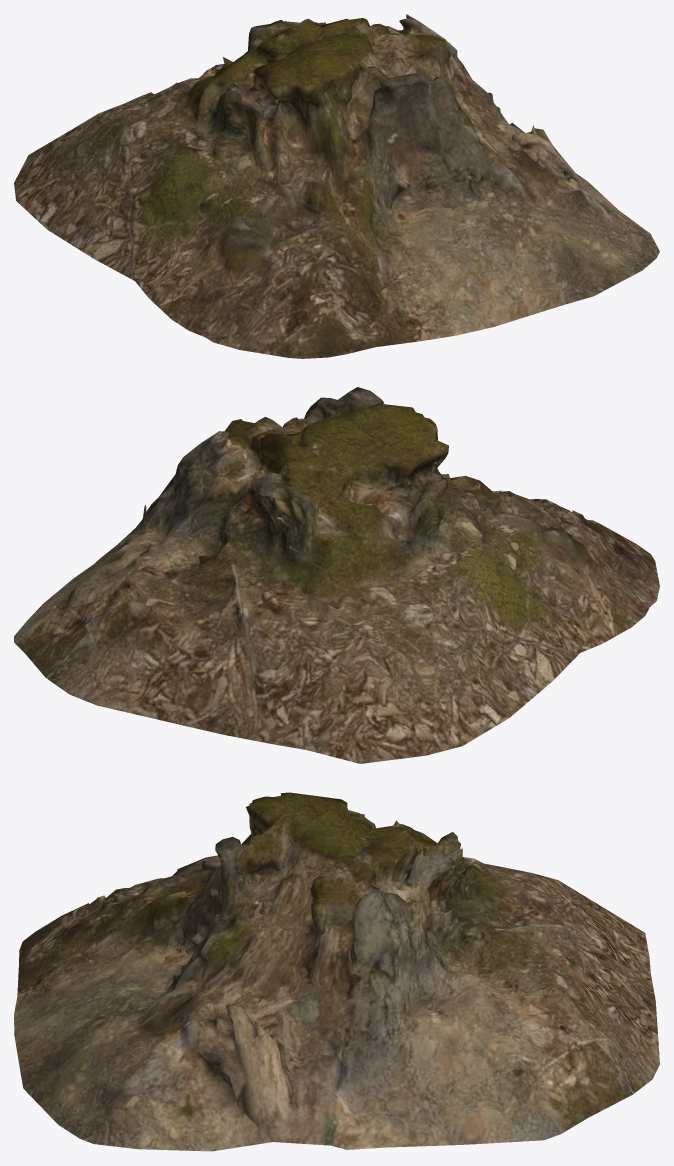
Rendered from tree_stump_01.glb.
3 renders of one model, top to bottom at view 1: azimuth 30°, elevation 25°; view 2: azimuth 150°, elevation 25°; view 3: azimuth 270°, elevation 25°, orthographic. The views are drawn at different scales.
Visible parts, largest first — view 1: tree_stump_01; view 2: tree_stump_01; view 3: tree_stump_01.
Boxes of the visible parts, x1,y1,x2,y2 form: tree_stump_01: (14, 14, 659, 358); tree_stump_01: (14, 387, 659, 763); tree_stump_01: (14, 792, 659, 1151).
Size of the model in its own units: 1.43 by 0.571 by 1.59.
Materials: 1 (1 with a texture image).
